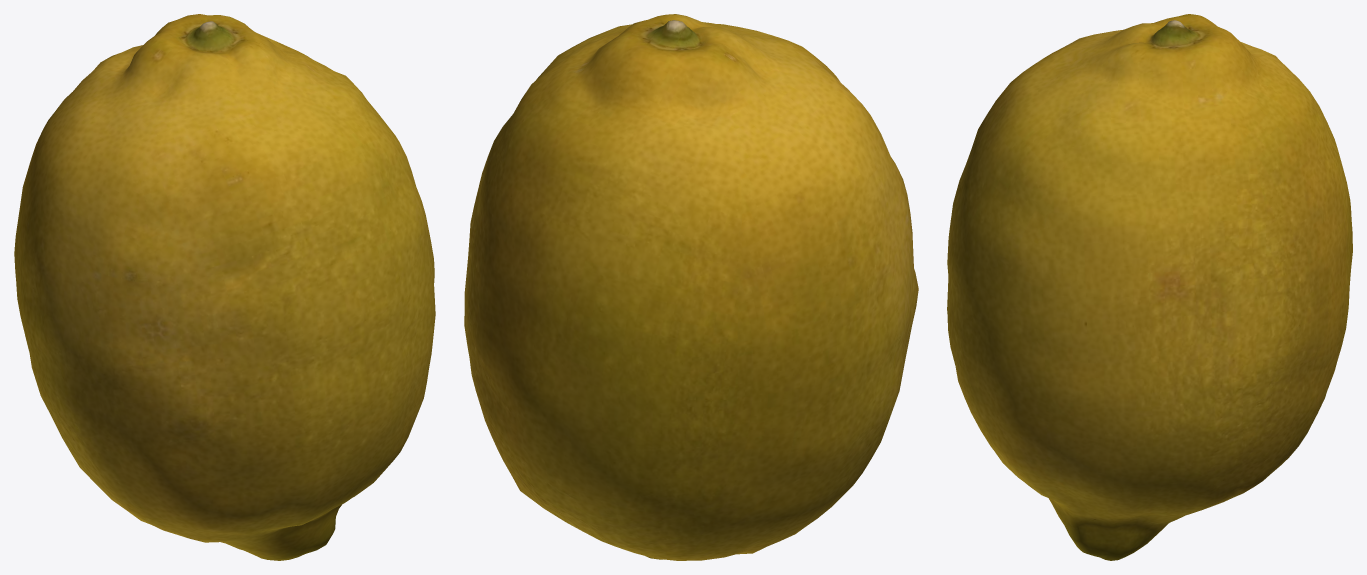
File: lemon.glb
The picture shows the model from 3 angles, left to right: view 1: azimuth 30°, elevation 25°; view 2: azimuth 150°, elevation 25°; view 3: azimuth 270°, elevation 25°; orthographic projection. The views are drawn at different scales.
Visible parts, largest first — view 1: lemon; view 2: lemon; view 3: lemon.
Boxes of the visible parts, left/top/right/bottom form: lemon: left=14, top=14, right=435, bottom=560; lemon: left=464, top=14, right=918, bottom=560; lemon: left=947, top=14, right=1352, bottom=560.
Size of the model in its own units: 0.0687 by 0.0954 by 0.0683.
Materials: 1 (1 with a texture image).
